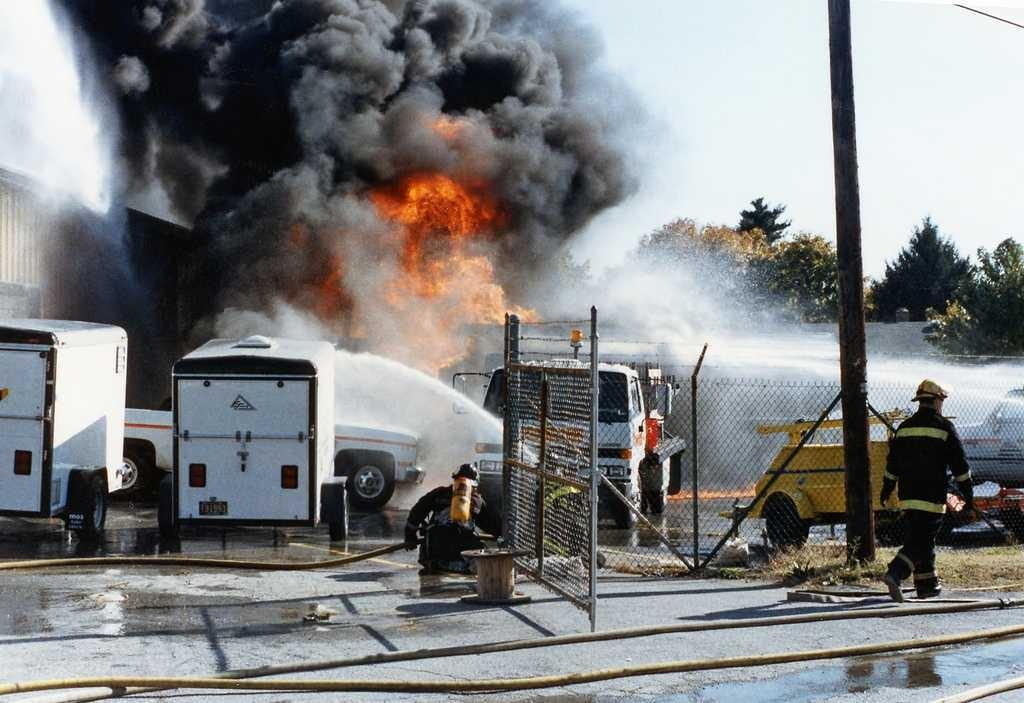fire: (395, 188, 477, 268)
smoke: (148, 0, 417, 172), (475, 47, 628, 185)
